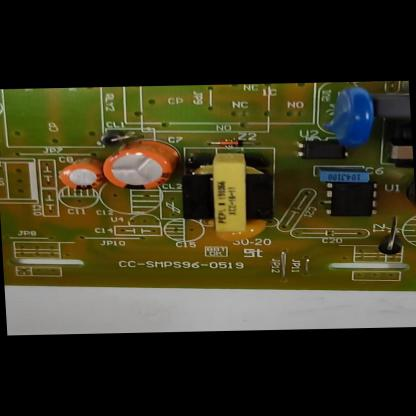Cap1: (102, 140, 180, 188)
Cap2: (58, 158, 106, 191)
MOSFET: (324, 181, 380, 217)
Mov: (332, 87, 378, 144)
Resistor: (399, 81, 409, 95)
Transformer: (174, 152, 274, 233), (387, 124, 413, 170)
